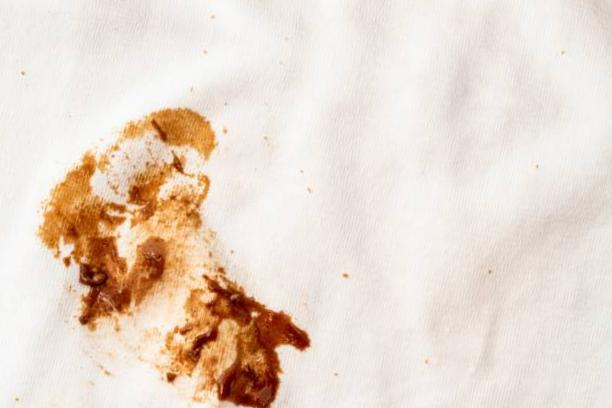stain: (31, 101, 326, 408)
